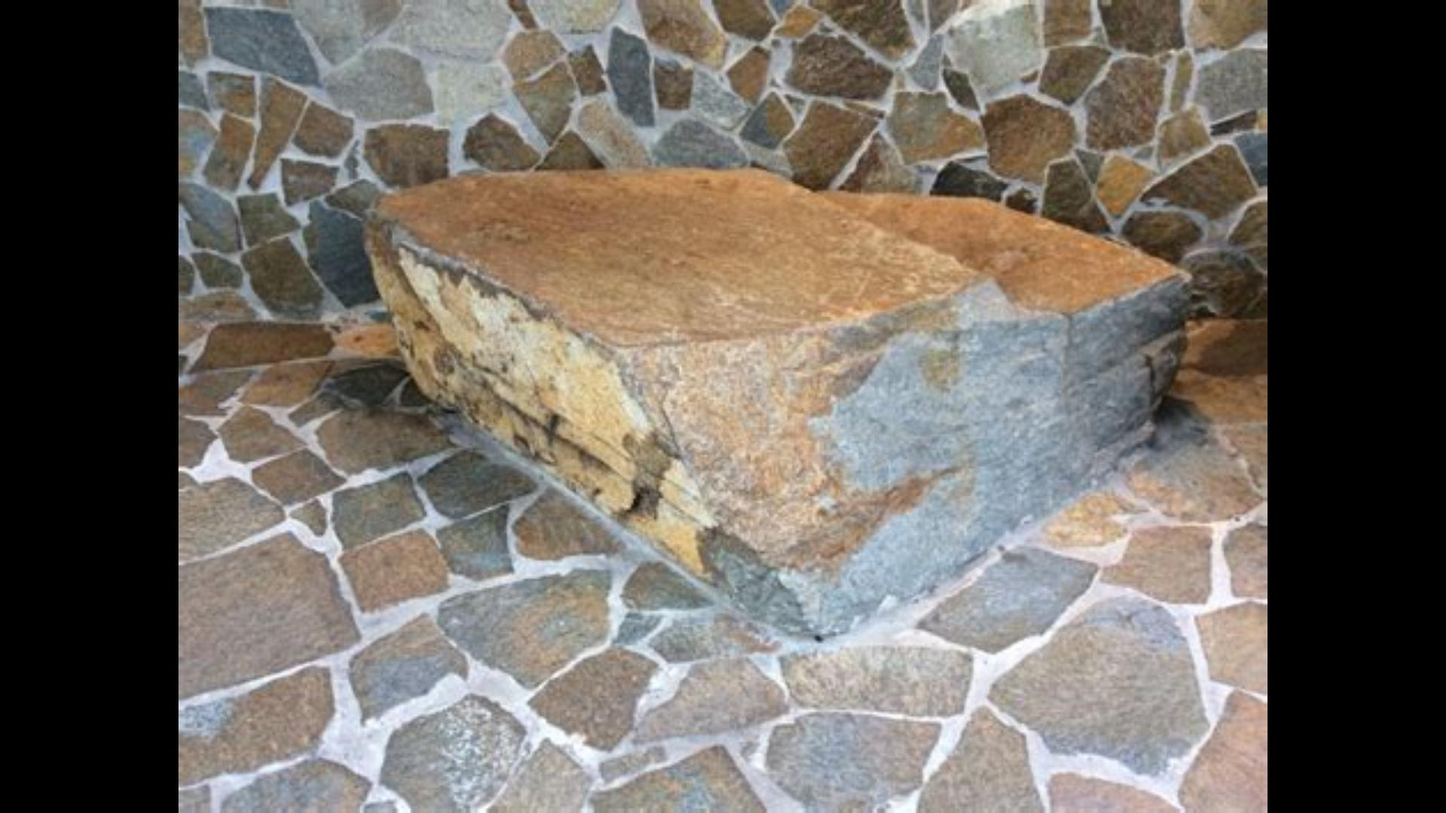rock: (367, 172, 1185, 627)
